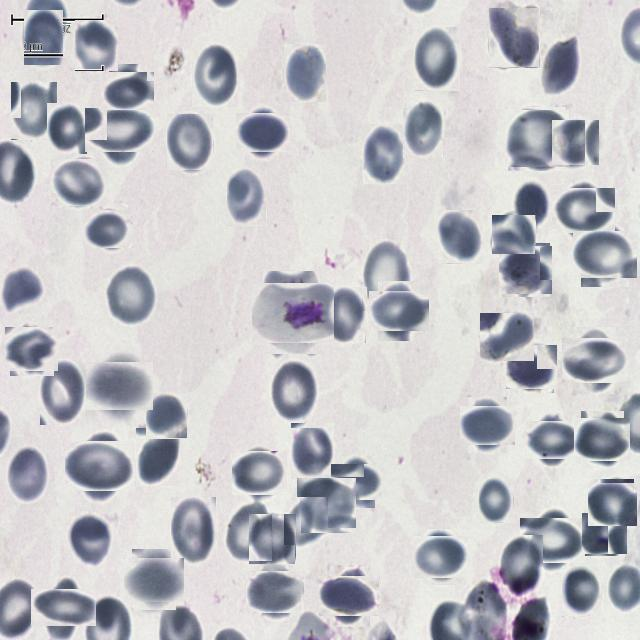red blood cell: (507, 109, 568, 170), (70, 436, 130, 496), (362, 240, 410, 311), (91, 357, 149, 415), (91, 102, 148, 159), (171, 497, 217, 566), (106, 264, 156, 327), (524, 512, 580, 568), (577, 227, 633, 283), (568, 332, 624, 388), (270, 359, 318, 423), (489, 8, 540, 68), (40, 359, 86, 425), (299, 476, 354, 531), (556, 183, 610, 238), (414, 27, 460, 91), (192, 43, 238, 107), (226, 498, 272, 561), (128, 553, 180, 606), (499, 535, 543, 597), (11, 82, 58, 140), (54, 156, 106, 208), (324, 570, 376, 621), (501, 244, 552, 296), (38, 582, 88, 634), (480, 313, 534, 361), (362, 124, 405, 184), (167, 114, 213, 170), (136, 428, 180, 486), (250, 566, 300, 617), (291, 423, 335, 480), (416, 532, 466, 582), (578, 414, 628, 464), (235, 448, 285, 498), (374, 286, 424, 336), (324, 287, 367, 344), (541, 36, 581, 97), (284, 44, 326, 102), (438, 210, 483, 264), (8, 324, 56, 374), (249, 514, 296, 565), (7, 446, 48, 504), (403, 100, 444, 158), (69, 512, 112, 567), (227, 168, 267, 226), (464, 401, 512, 449), (508, 343, 556, 391), (24, 10, 64, 66), (530, 416, 576, 464), (552, 120, 600, 166), (75, 20, 118, 71), (589, 481, 636, 527), (240, 110, 286, 156), (105, 68, 151, 114), (1, 266, 46, 313), (284, 497, 328, 545), (562, 566, 602, 617), (47, 103, 87, 154), (335, 460, 379, 504), (582, 511, 626, 555), (146, 393, 188, 439), (86, 207, 130, 250), (514, 179, 551, 230), (492, 215, 536, 255), (479, 479, 514, 523)
trophozoite: (258, 276, 328, 348)
